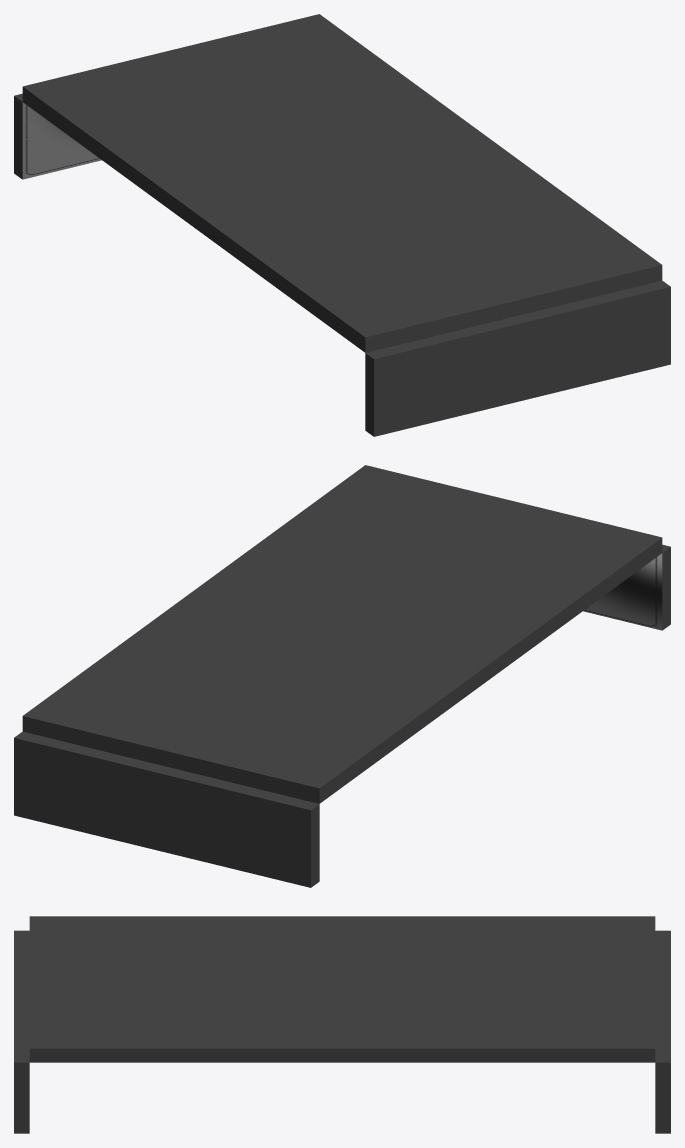
File: Middle roof.fbx
The picture shows the model from 3 angles, top to bottom: view 1: azimuth 30°, elevation 25°; view 2: azimuth 150°, elevation 25°; view 3: azimuth 270°, elevation 25°; orthographic projection. The views are drawn at different scales.
Parts seen in each view (by area): view 1: Middle roof; view 2: Middle roof; view 3: Middle roof.
Boxes of the visible parts, box(x1,y1,x2,y2) form: Middle roof: box(14, 14, 670, 436); Middle roof: box(14, 465, 670, 887); Middle roof: box(14, 916, 670, 1133).
Bounding box in the file's own units: 4 × 1.2 × 8.4.
